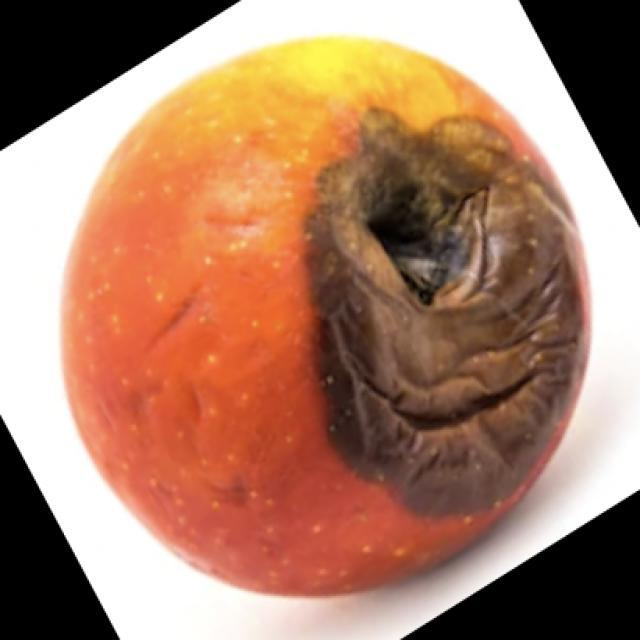Rotten: (60, 45, 585, 585)
